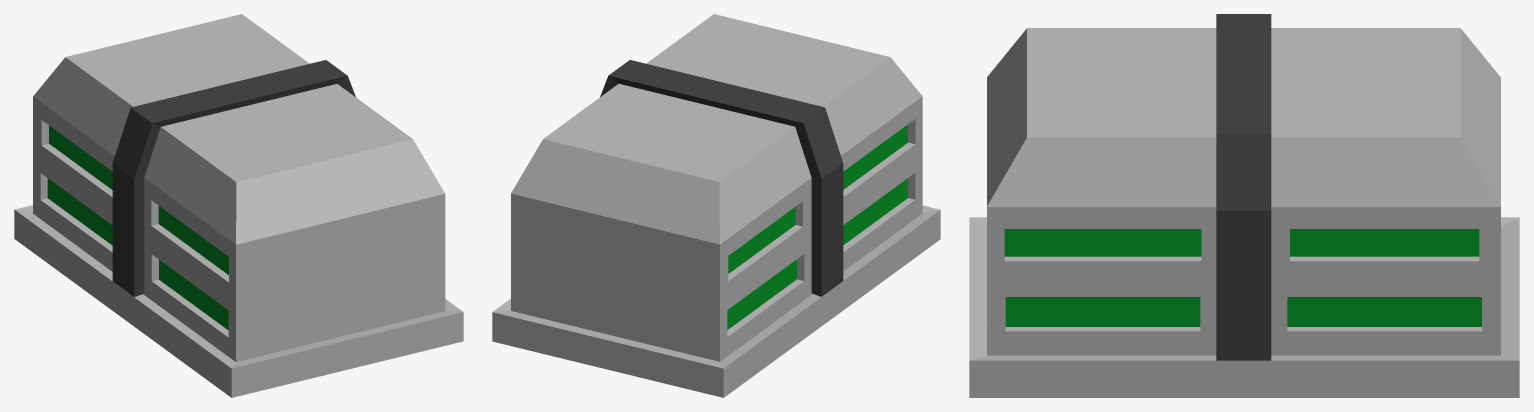
The model's file is navigation.power.fbx.
The picture shows the model from 3 angles, left to right: view 1: azimuth 30°, elevation 25°; view 2: azimuth 150°, elevation 25°; view 3: azimuth 270°, elevation 25°; orthographic projection. The views are drawn at different scales.
Parts seen in each view (by area): view 1: Cube.009; view 2: Cube.009; view 3: Cube.009.
Boxes of the visible parts, x1,y1,x2,y2 form: Cube.009: (14, 14, 463, 397); Cube.009: (492, 14, 940, 397); Cube.009: (969, 14, 1519, 397).
Bounding box in the file's own units: 82.8 × 67.85 × 134.
